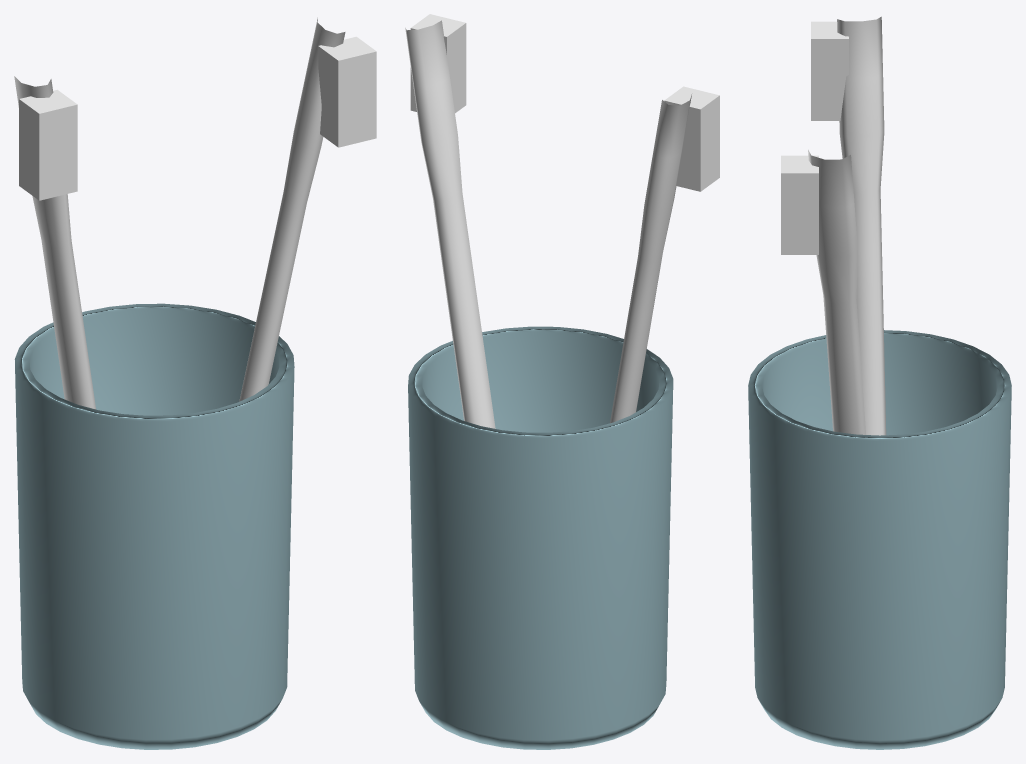
The picture shows the model from 3 angles, left to right: view 1: azimuth 30°, elevation 25°; view 2: azimuth 150°, elevation 25°; view 3: azimuth 270°, elevation 25°; orthographic projection. The views are drawn at different scales.
Visible parts, largest first — view 1: Toothbrush mug; view 2: Toothbrush mug; view 3: Toothbrush mug.
Part boxes in pixels (x1=…): Toothbrush mug: x1=14, y1=17, x2=376, y2=749; Toothbrush mug: x1=405, y1=14, x2=719, y2=749; Toothbrush mug: x1=748, y1=16, x2=1011, y2=749.
Size of the model in its own units: 0.1007 by 0.1982 by 0.076.
